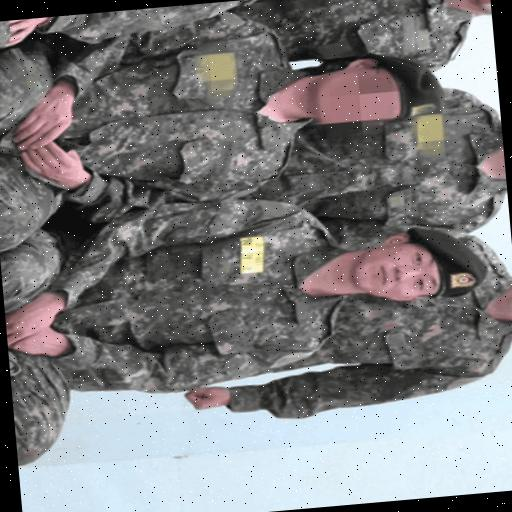korea army: (0, 175, 481, 411), (0, 16, 443, 216), (207, 206, 512, 415), (277, 84, 509, 242), (276, 0, 492, 83)
